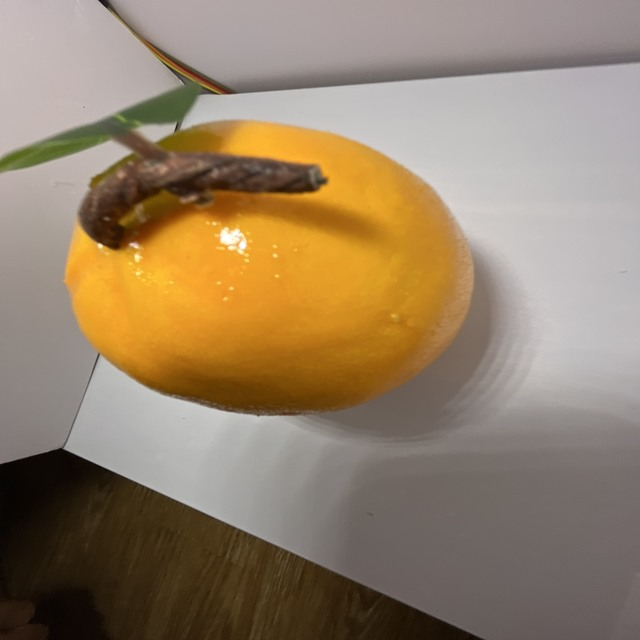Cam vang: (60, 106, 474, 417)
